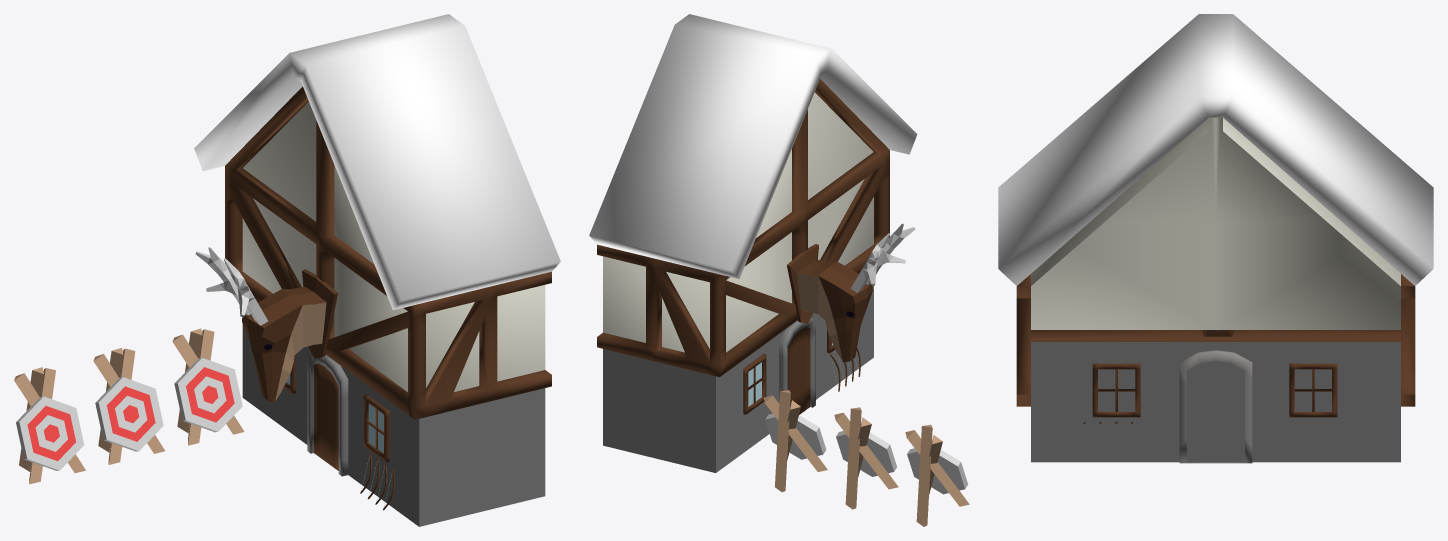
File: Hunting Lodge.fbx
3 renders of one model, left to right at view 1: azimuth 30°, elevation 25°; view 2: azimuth 150°, elevation 25°; view 3: azimuth 270°, elevation 25°, orthographic. The views are drawn at different scales.
Parts seen in each view (by area): view 1: hunter; view 2: hunter; view 3: hunter.
Boxes of the visible parts, box(x1,y1,x2,y2) form: hunter: box(14, 14, 560, 526); hunter: box(589, 14, 969, 526); hunter: box(998, 14, 1433, 463).
Size of the model in its own units: 0.8539 by 0.9246 by 0.8196.
